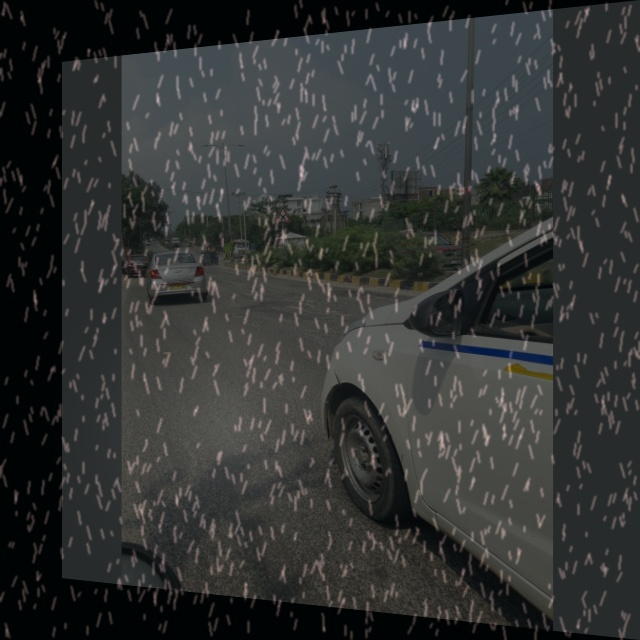Cross_Road: (272, 200, 295, 225)
